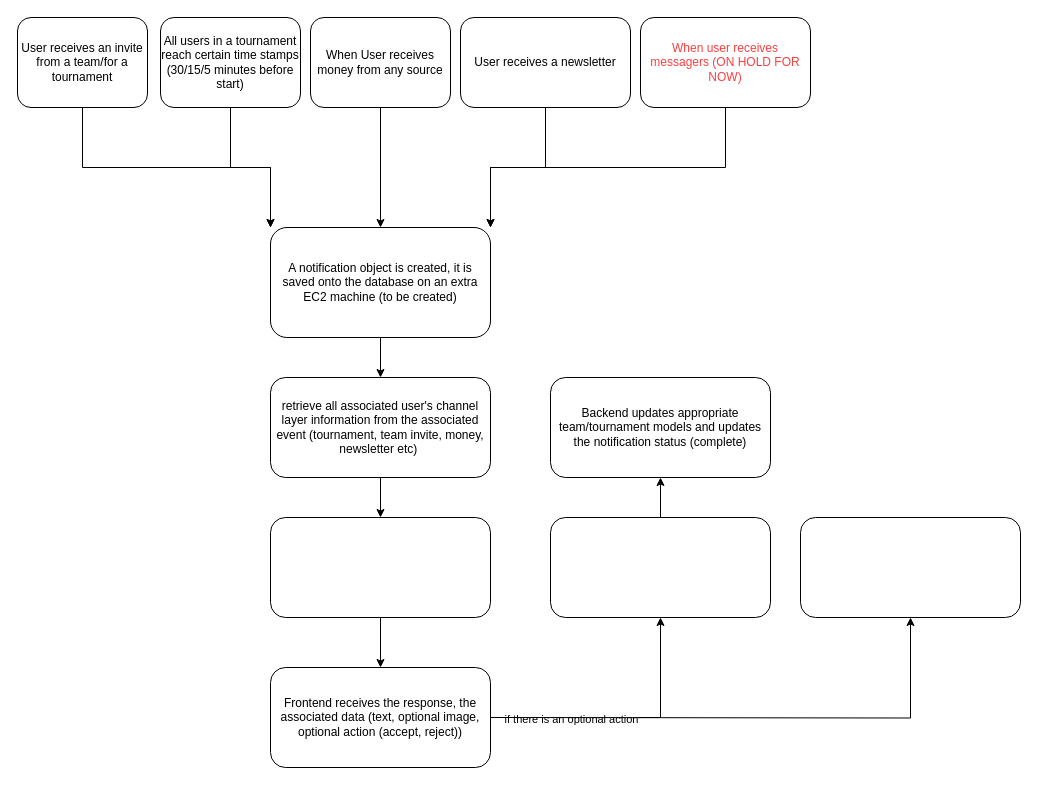
The diagram is 1038 pixels wide and 785 high, and some of its shapes have lost their labels. The shapes that lost their labels are listed below. From the top down, each one's centre as x and y in pixels, then its label:
At pixel 380 567: "send the response (notification) to the user's socket".
At pixel 660 567: "Accepted: send a response via current web socket to the backend".
At pixel 910 567: "Rejected: notification updates, socket closes for now".
